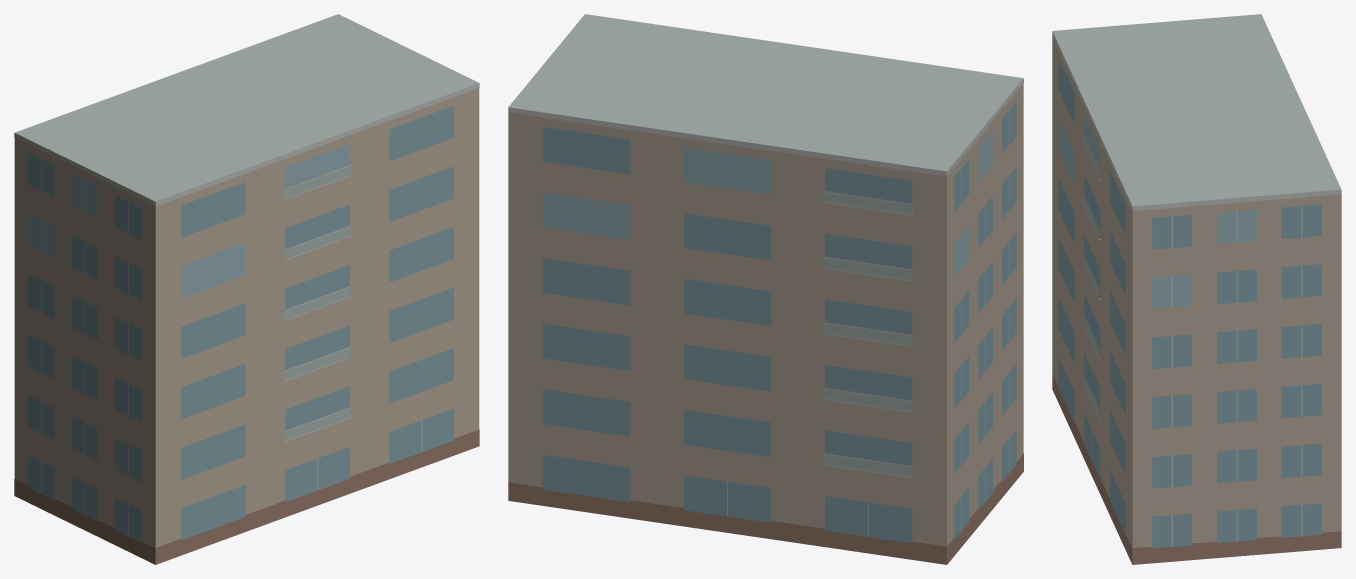
The model's file is survey-upis-32922751.glb.
3 views of the same model, side by side, from view 1: azimuth 30°, elevation 25°; view 2: azimuth 150°, elevation 25°; view 3: azimuth 270°, elevation 25° (orthographic). The views are drawn at different scales.
Parts seen in each view (by area): view 1: survey-upis-32922751.tmp; view 2: survey-upis-32922751.tmp; view 3: survey-upis-32922751.tmp.
Boxes of the visible parts, left/top/right/bottom form: survey-upis-32922751.tmp: left=14, top=14, right=479, bottom=564; survey-upis-32922751.tmp: left=508, top=14, right=1023, bottom=564; survey-upis-32922751.tmp: left=1052, top=14, right=1341, bottom=564.
Size of the model in its own units: 21.08 by 18.3 by 13.39.
